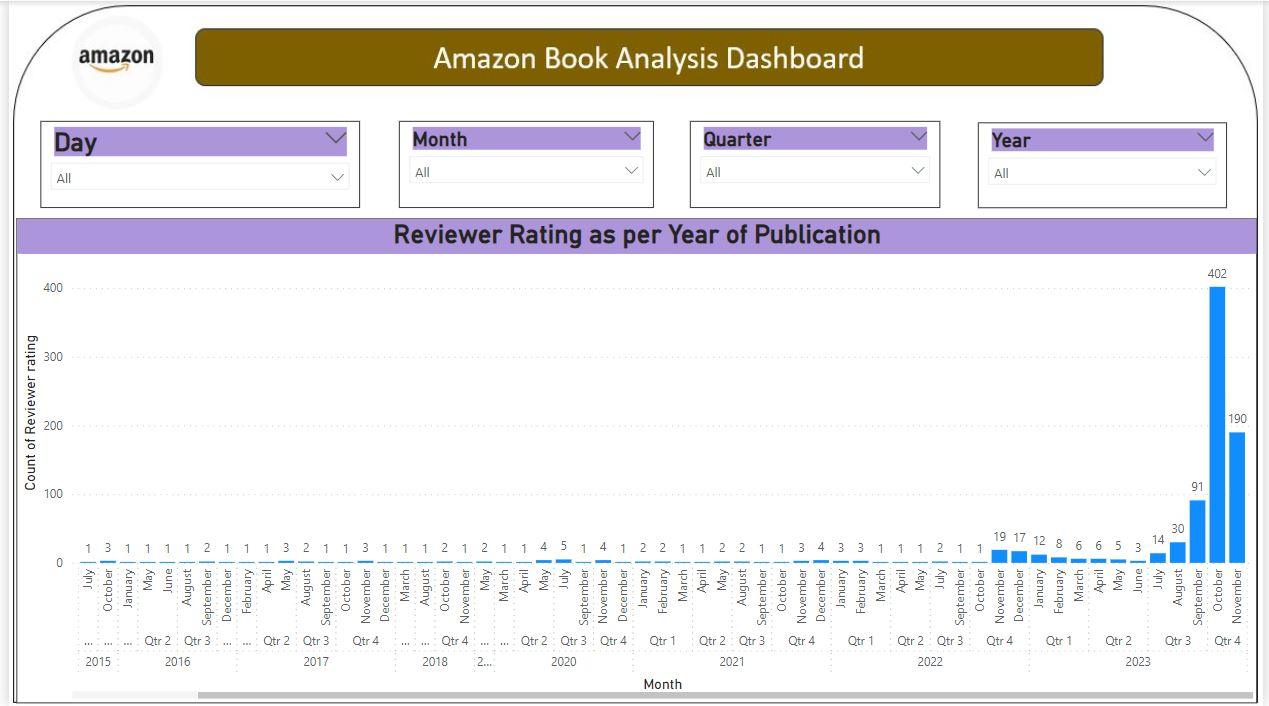

The page's visual inventory and layout, read from the dashboard file:
{"tool":"powerbi","page":{"name":"Reviews Over time","canvas":[1280,720],"ordinal":5},"visuals":[{"type":"clusteredColumnChart","title":"Reviewer Rating as per Year of Publication","fields":{"Y":["CountNonNull(Merge1.Data 1 customer reviews.reviewer rating)"],"Category":["Merge1.Reviews.date.Variation.Date Hierarchy.Year","Merge1.Reviews.date.Variation.Date Hierarchy.Quarter","Merge1.Reviews.date.Variation.Date Hierarchy.Month"]},"box":[7.7,222,1266,494.5],"z":0},{"type":"slicer","fields":{"Values":["Merge1.Reviews.date.Variation.Date Hierarchy.Day"]},"box":[32.1,122.5,326.1,88.8],"z":1000},{"type":"slicer","fields":{"Values":["Merge1.Reviews.date.Variation.Date Hierarchy.Year"]},"box":[988.9,124,254.1,87.3],"z":2000},{"type":"slicer","fields":{"Values":["Merge1.Reviews.date.Variation.Date Hierarchy.Quarter"]},"box":[695,122.5,255.7,88.8],"z":3000},{"type":"slicer","fields":{"Values":["Merge1.Reviews.date.Variation.Date Hierarchy.Month"]},"box":[398,122.5,260.2,88.8],"z":4000}]}

Visuals, with their boxes in screenshot pixels (x1, y1, x2, y2), scaled from the page's 1280x720 canvas onto the 1269x706 screenshot:
"Reviewer Rating as per Year of Publication" clusteredColumnChart: [8,218,1263,703]
slicer - Merge1.Reviews.date.Variation.Date Hierarchy.Day: [32,120,355,207]
slicer - Merge1.Reviews.date.Variation.Date Hierarchy.Year: [980,122,1232,207]
slicer - Merge1.Reviews.date.Variation.Date Hierarchy.Quarter: [689,120,943,207]
slicer - Merge1.Reviews.date.Variation.Date Hierarchy.Month: [395,120,653,207]
